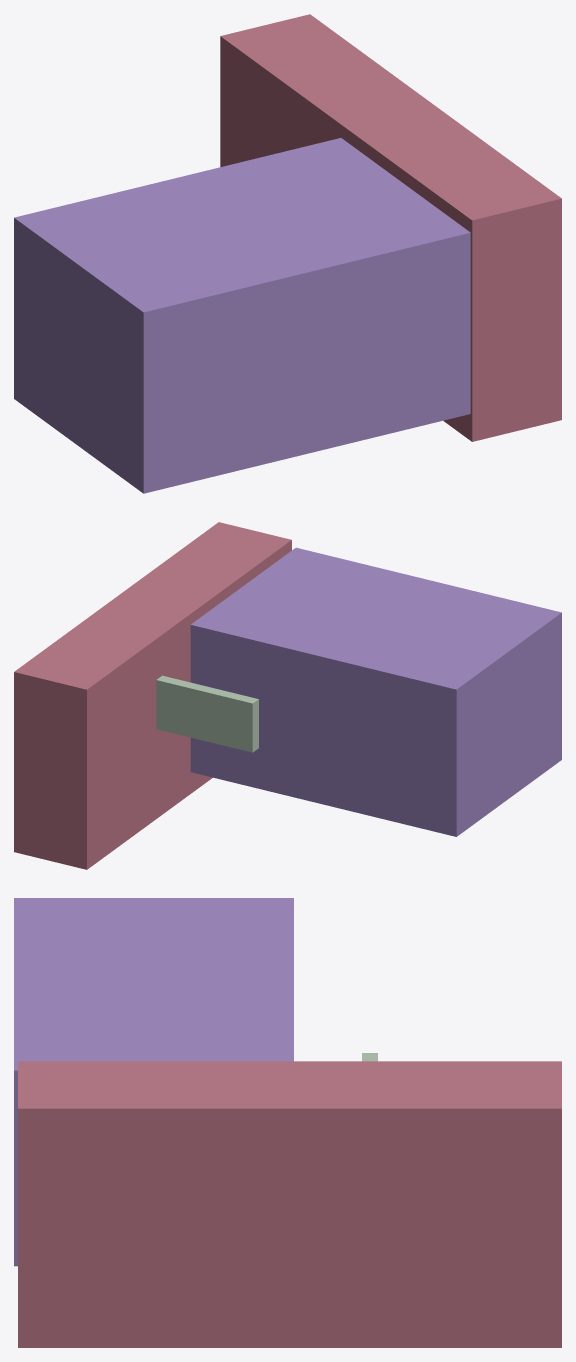
Rendered from 239507_pred.glb.
3 renders of one model, top to bottom at view 1: azimuth 30°, elevation 25°; view 2: azimuth 150°, elevation 25°; view 3: azimuth 270°, elevation 25°, orthographic. The views are drawn at different scales.
Parts seen in each view (by area): view 1: world; view 2: world; view 3: world.
Part boxes in pixels (x1,y1,x2,y2): world: (14, 14, 561, 493); world: (14, 522, 561, 869); world: (14, 898, 561, 1347).
Bounding box in the file's own units: 6.55 × 3.3 × 6.85.
